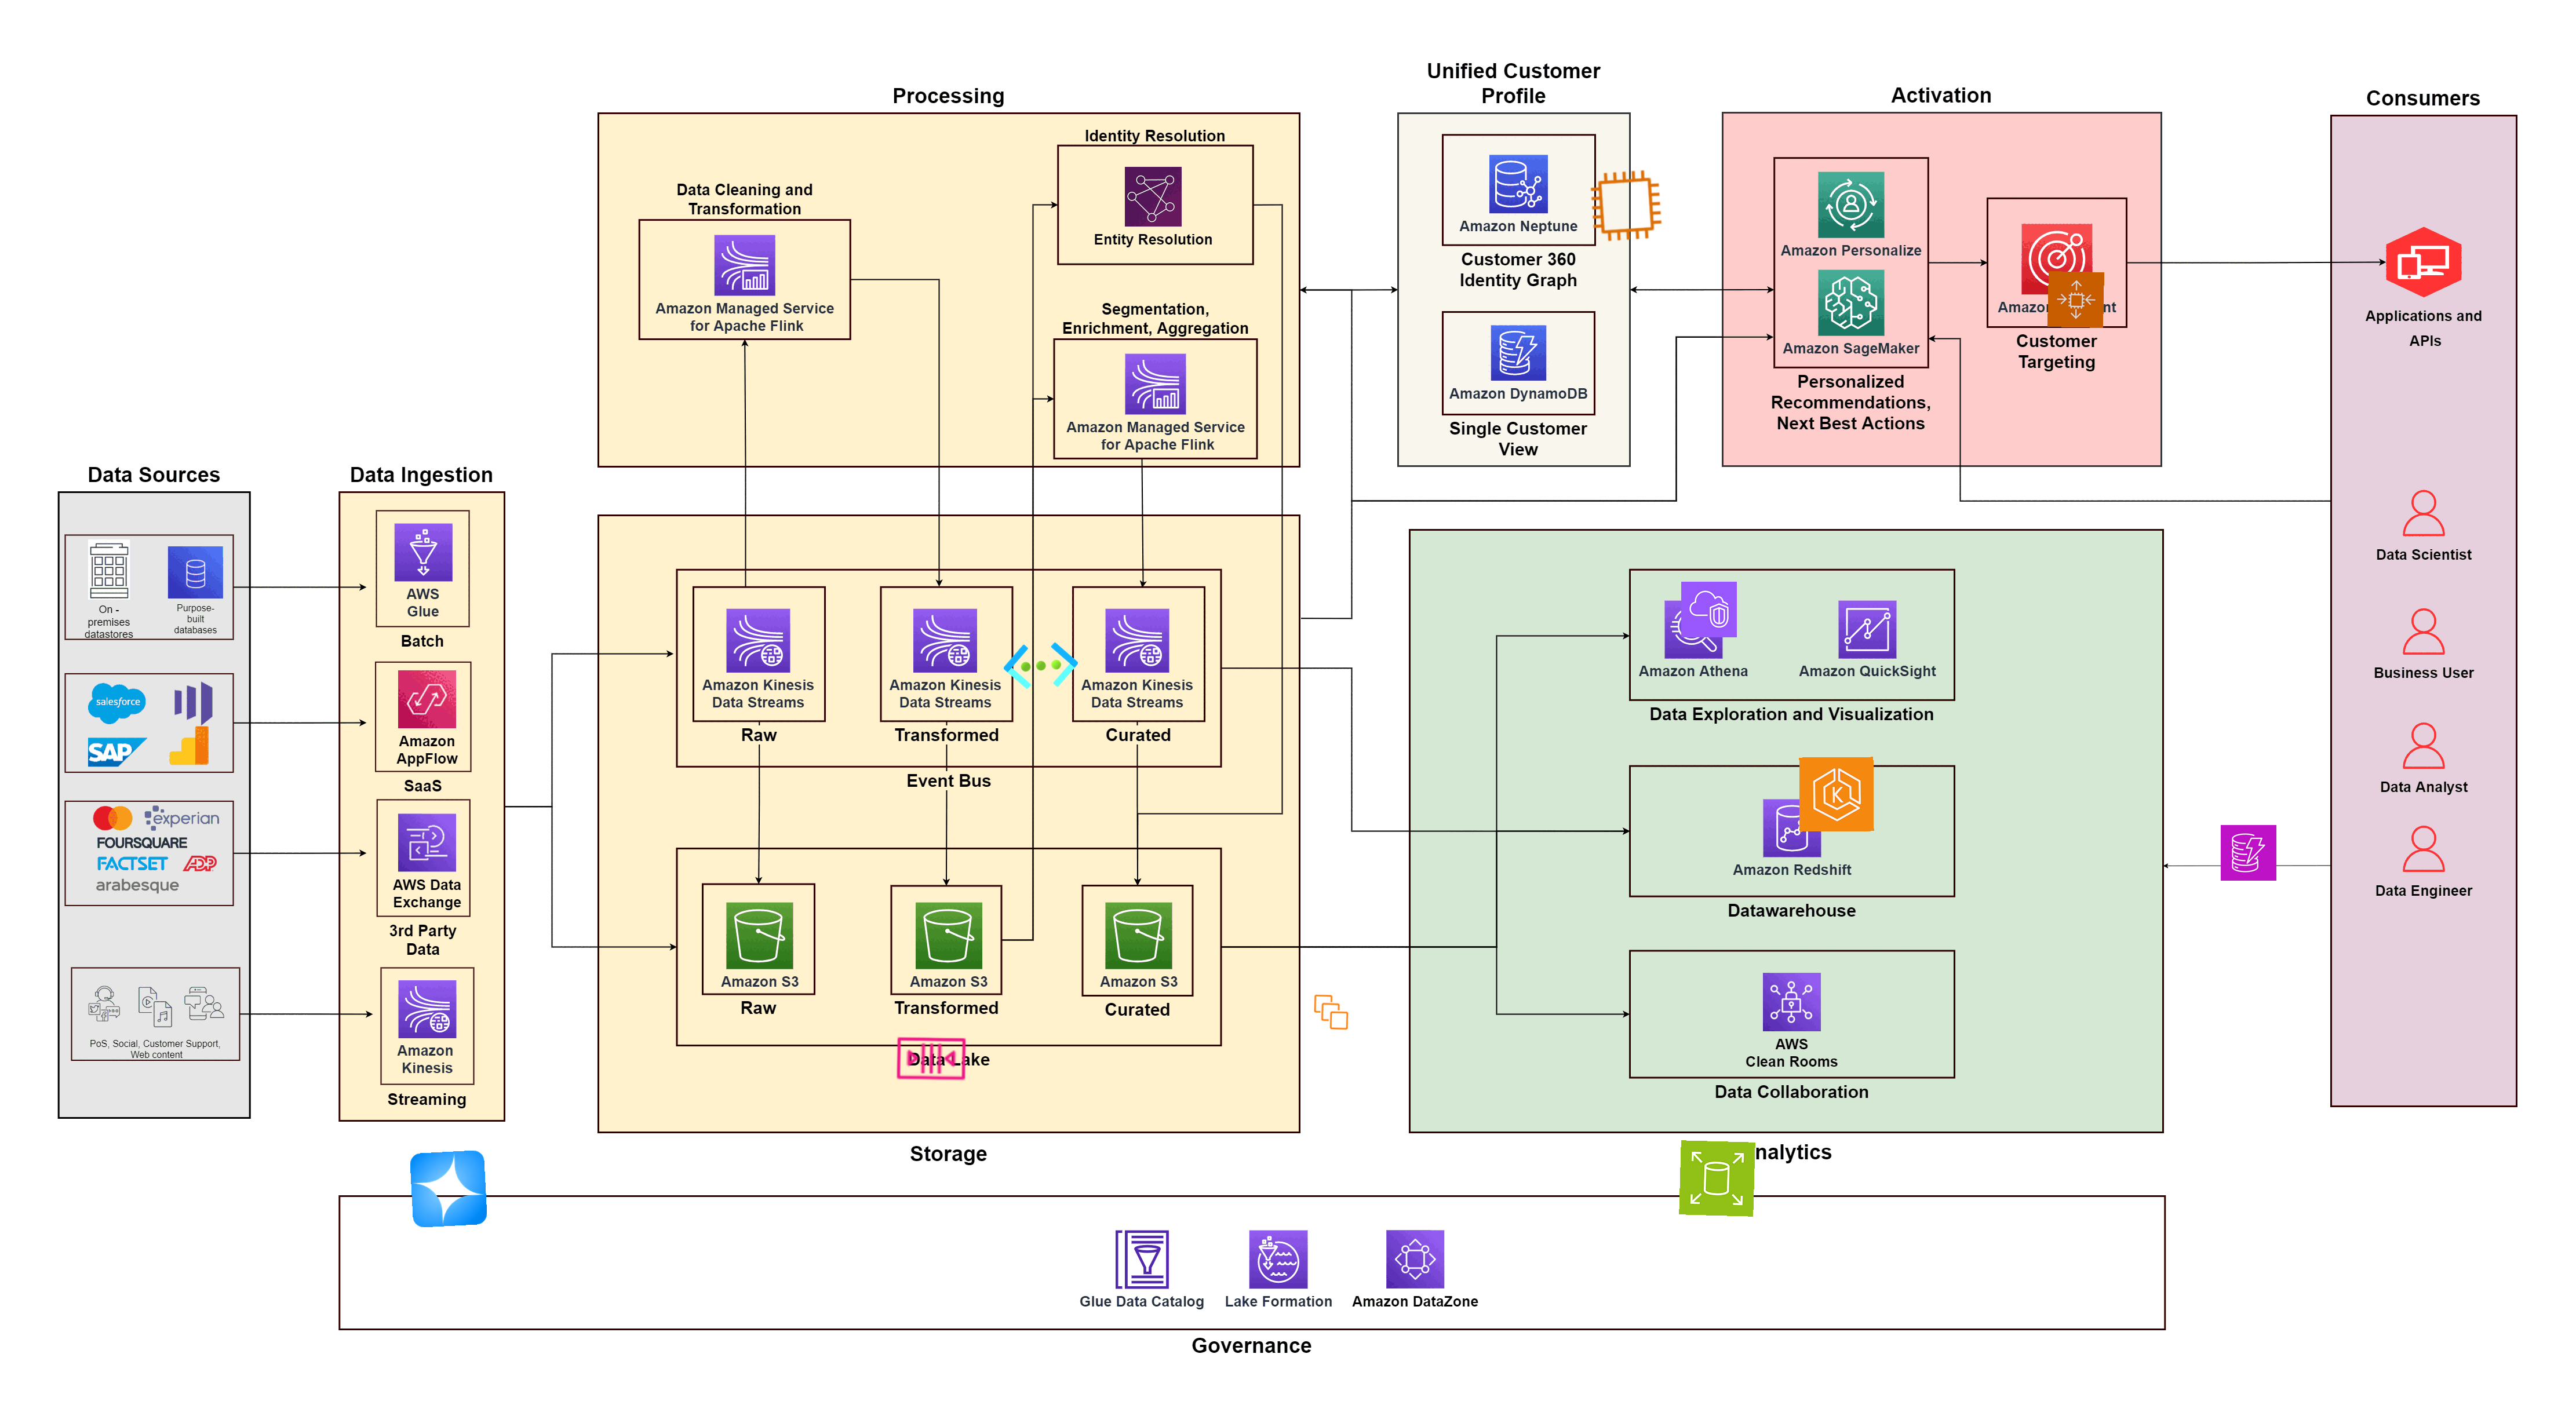aws_amazon_dynamodb: (2220, 825, 2278, 881)
aws_amazon_ec2_auto_scaling: (2048, 270, 2105, 328)
aws_amazon_elastic_block_store: (1680, 1140, 1755, 1217)
aws_amazon_elastic_kubernetes_service: (1798, 757, 1875, 832)
aws_amazon_virtual_private_cloud: (1681, 581, 1737, 638)
aws_ec2_instance: (1585, 166, 1666, 246)
aws_ec2_instances: (1312, 992, 1350, 1031)
aws_simple_queue_service_queue: (893, 1020, 970, 1095)
azure_openai: (410, 1149, 488, 1228)
azure_virtual_networks: (1001, 626, 1081, 706)
